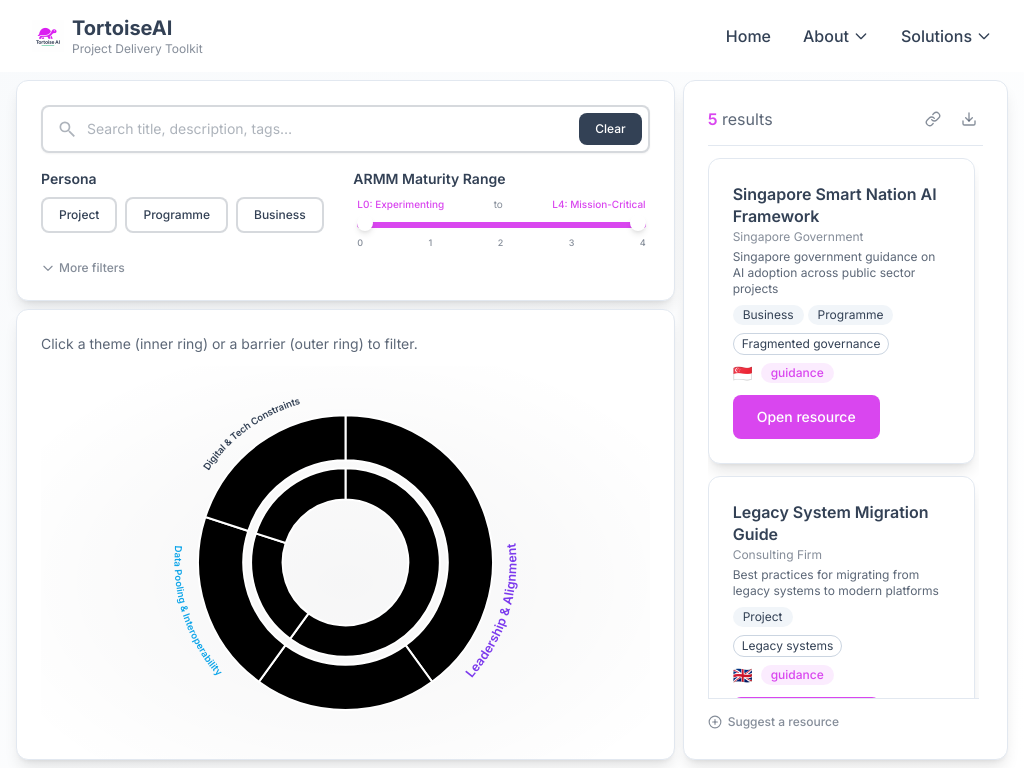
Test: App Component › Search Functionality › should filter resources by title search
This screenshot has width=1024, height=768.
In the field with placeholder "Search title, description, tags…": (345, 129) [41, 105, 650, 153], type "strategy"
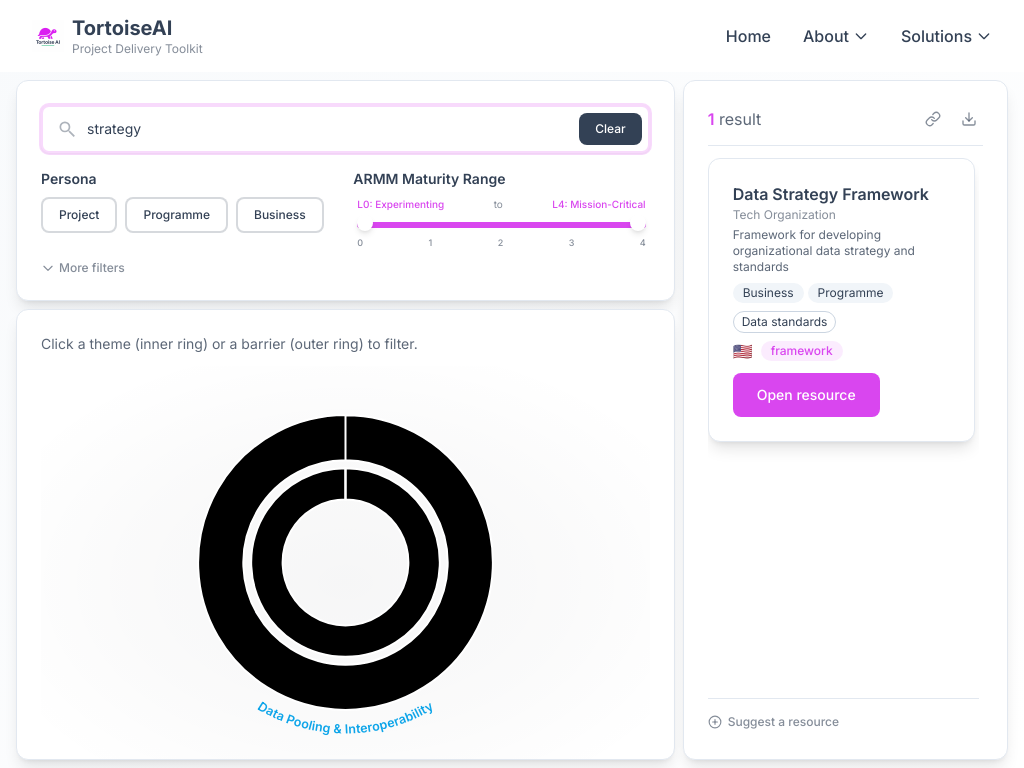
Expected: the heading "Data Strategy Framework" is shown, [733, 183, 950, 205]
Expected: the heading "Legacy System Migration Guide" is gone
